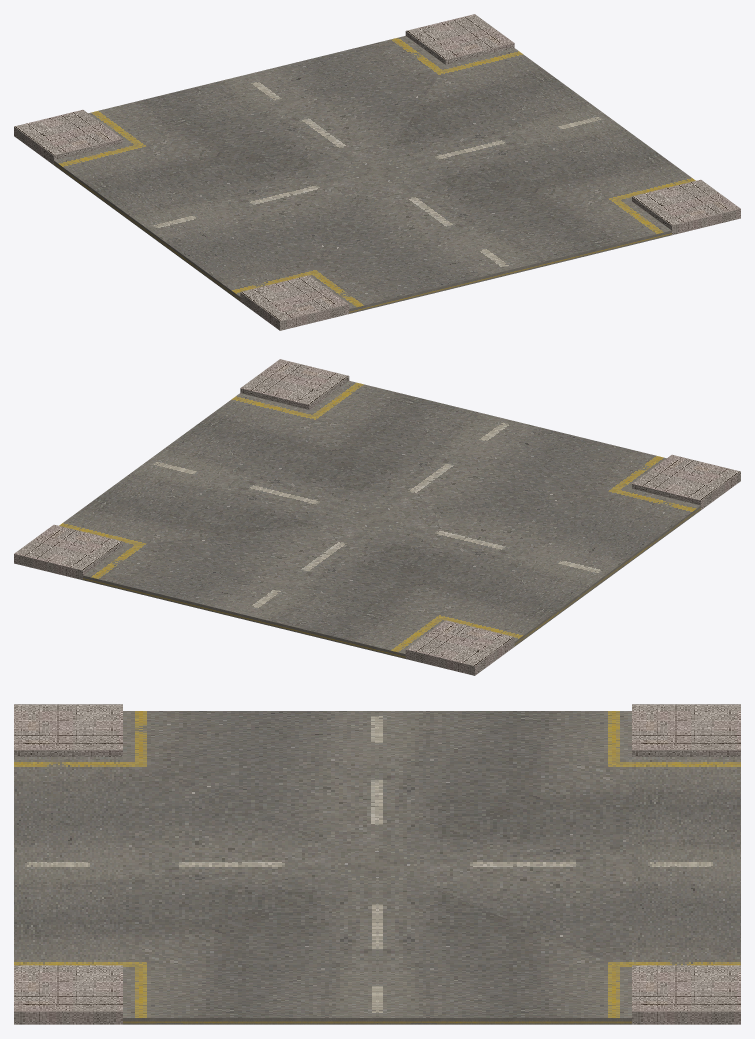
The model's file is road_1_junction.glb.
3 views of the same model, one above another, from view 1: azimuth 30°, elevation 25°; view 2: azimuth 150°, elevation 25°; view 3: azimuth 270°, elevation 25° (orthographic). The views are drawn at different scales.
Parts seen in each view (by area): view 1: road_1_junction; view 2: road_1_junction; view 3: road_1_junction.
Boxes of the visible parts, x1=… form: road_1_junction: x1=14, y1=14, x2=740, y2=330; road_1_junction: x1=14, y1=359, x2=740, y2=675; road_1_junction: x1=14, y1=704, x2=740, y2=1024.
Size of the model in its own units: 16 by 0.32 by 16.
Materials: 2 (2 with a texture image).
